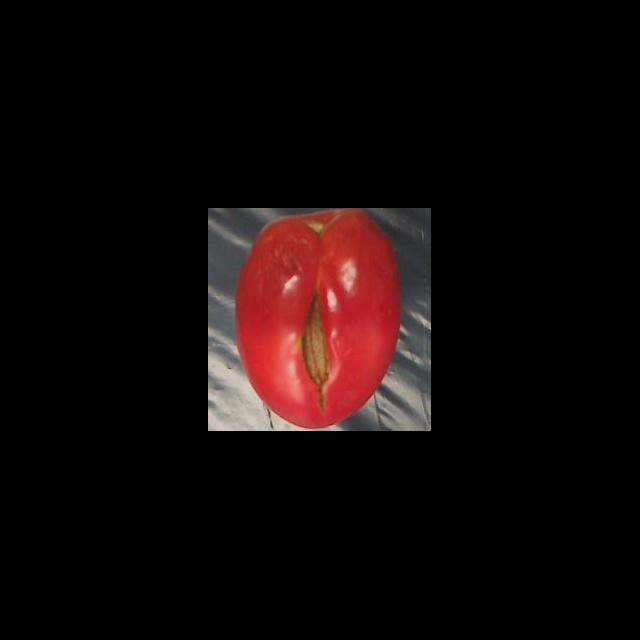tomato: (228, 209, 406, 432)
